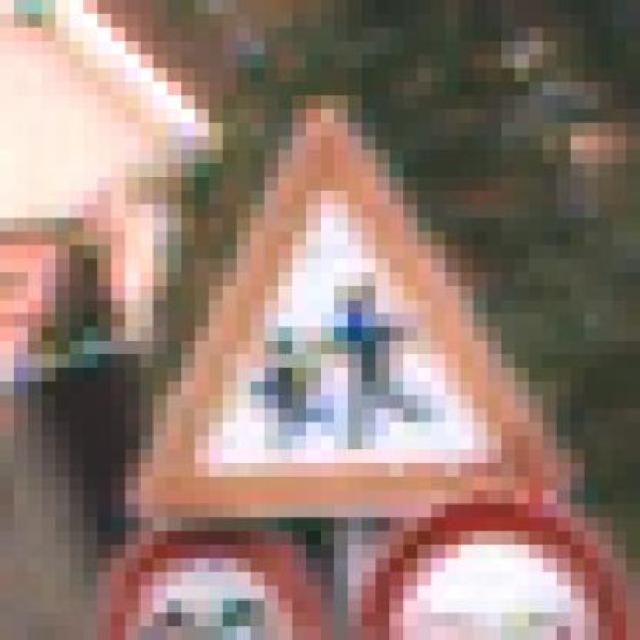Beware of children: (97, 95, 598, 531)
